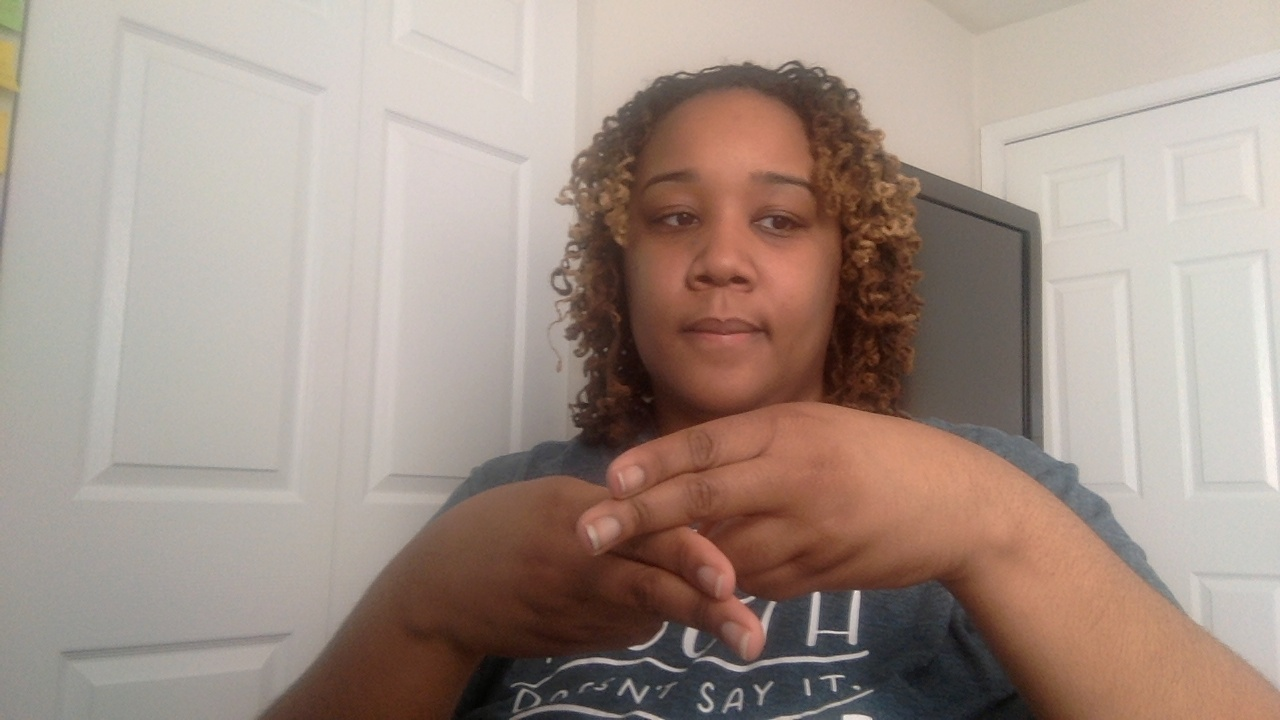name: (423, 397, 1099, 658)
